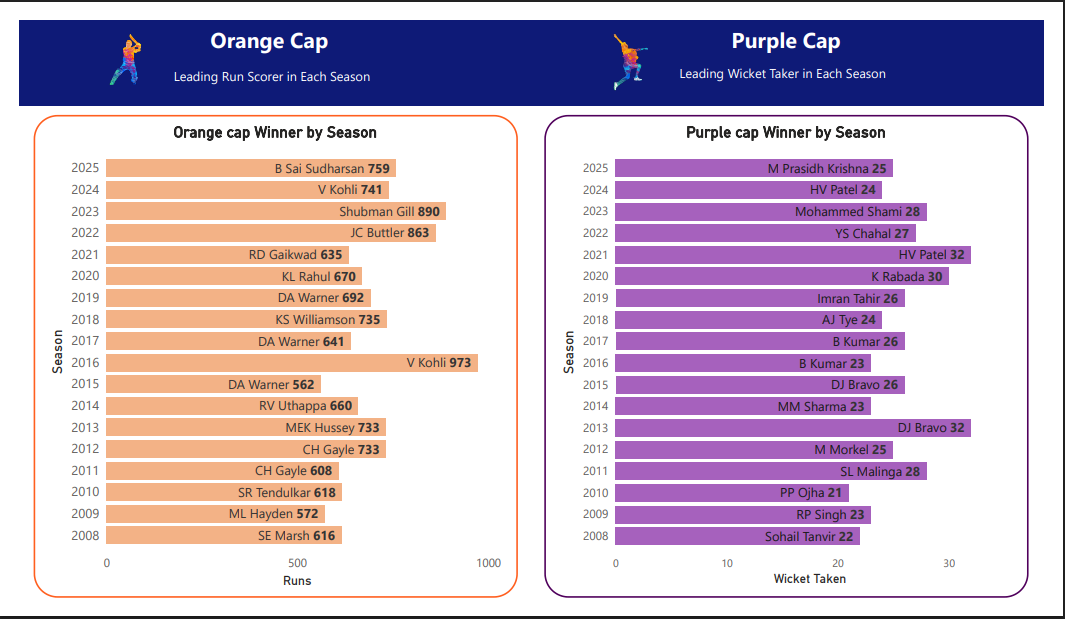

The dashboard page shown, as its layout file describes it:
{"tool":"powerbi","page":{"name":"cap","canvas":[1280,720],"ordinal":4},"visuals":[{"type":"shape","box":[0,0,640,107.4],"z":0},{"type":"shape","box":[640,0,640,107.4],"z":1000},{"type":"textbox","box":[233.6,0,169,54.4],"z":2000},{"type":"textbox","box":[884.6,0,148.4,54.4],"z":3000},{"type":"textbox","box":[188.1,54.4,260.1,36.7],"z":4000},{"type":"textbox","box":[819.9,50,279.2,47],"z":5000},{"type":"shape","box":[17.9,118.4,605.6,601.5],"z":6000},{"type":"shape","box":[656,118.4,605,601.5],"z":7000},{"type":"barChart","title":"Orange cap Winner by Season","fields":{"Y":["Sum(ipl_balls.runs_batter)"],"Category":["ipl_matches.season"],"Series":["ipl_balls.batter"]},"box":[33,128,573.9,583.6],"z":8000},{"type":"barChart","title":"Purple cap Winner by Season","fields":{"Y":["ipl_balls.wicket_count"],"Series":["ipl_balls.bowler"],"Category":["ipl_matches.season"]},"box":[671.7,128,572.6,582.2],"z":9000},{"type":"image","box":[734.7,0,58.8,107.3],"z":10000},{"type":"image","box":[99.9,0,67.6,97],"z":11000}]}

Visuals, with their boxes on the page's 1280x720 design canvas (x1, y1, x2, y2). These are canvas units, not pixel positions in the 1065x619 screenshot, which may show the page scaled, cropped or inside an application window:
shape: (left=0, top=0, right=640, bottom=107)
shape: (left=640, top=0, right=1280, bottom=107)
textbox: (left=234, top=0, right=403, bottom=54)
textbox: (left=885, top=0, right=1033, bottom=54)
textbox: (left=188, top=54, right=448, bottom=91)
textbox: (left=820, top=50, right=1099, bottom=97)
shape: (left=18, top=118, right=624, bottom=720)
shape: (left=656, top=118, right=1261, bottom=720)
"Orange cap Winner by Season" barChart: (left=33, top=128, right=607, bottom=712)
"Purple cap Winner by Season" barChart: (left=672, top=128, right=1244, bottom=710)
image: (left=735, top=0, right=794, bottom=107)
image: (left=100, top=0, right=168, bottom=97)
